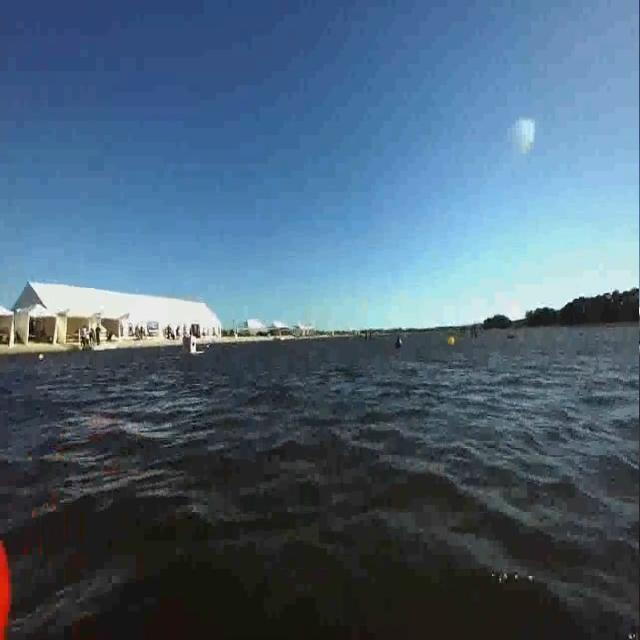red-buoy: (0, 523, 14, 640)
yellow-buoy: (448, 335, 457, 348)
